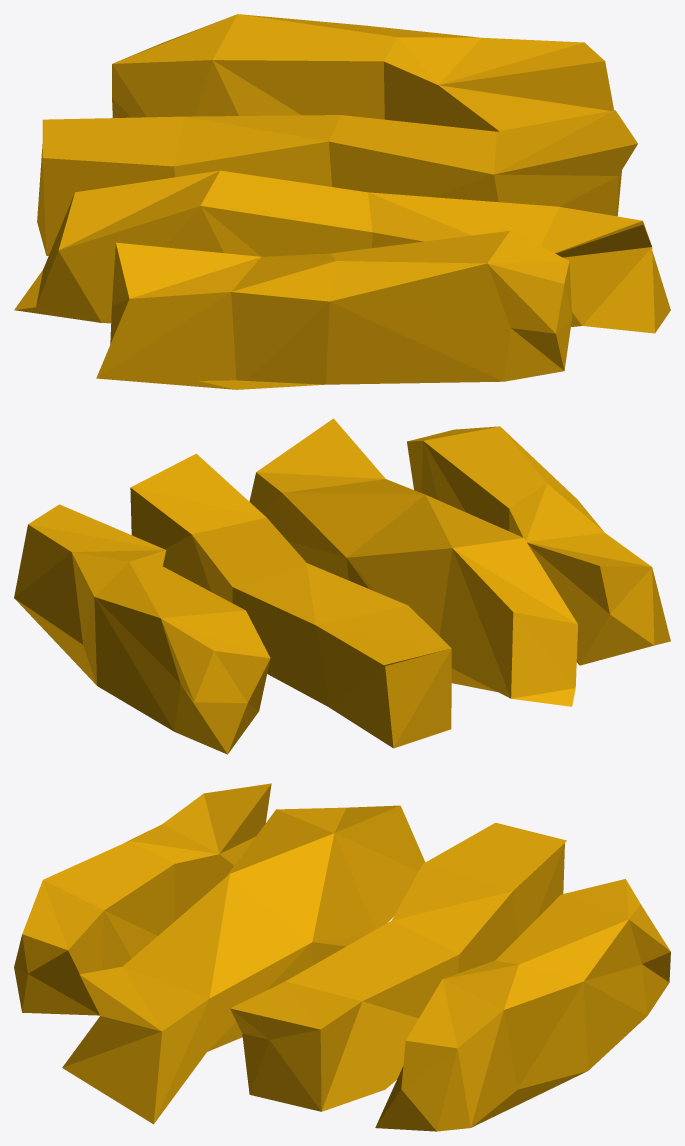
The model's file is Fields.fbx.
3 renders of one model, top to bottom at view 1: azimuth 30°, elevation 25°; view 2: azimuth 150°, elevation 25°; view 3: azimuth 270°, elevation 25°, orthographic. The views are drawn at different scales.
Parts seen in each view (by area): view 1: Cube.005; view 2: Cube.005; view 3: Cube.005.
Boxes of the visible parts, box(x1,y1,x2,y2) form: Cube.005: box(14, 14, 670, 389); Cube.005: box(14, 418, 670, 754); Cube.005: box(14, 783, 670, 1131).
Size of the model in its own units: 168 by 38.6 by 167.
